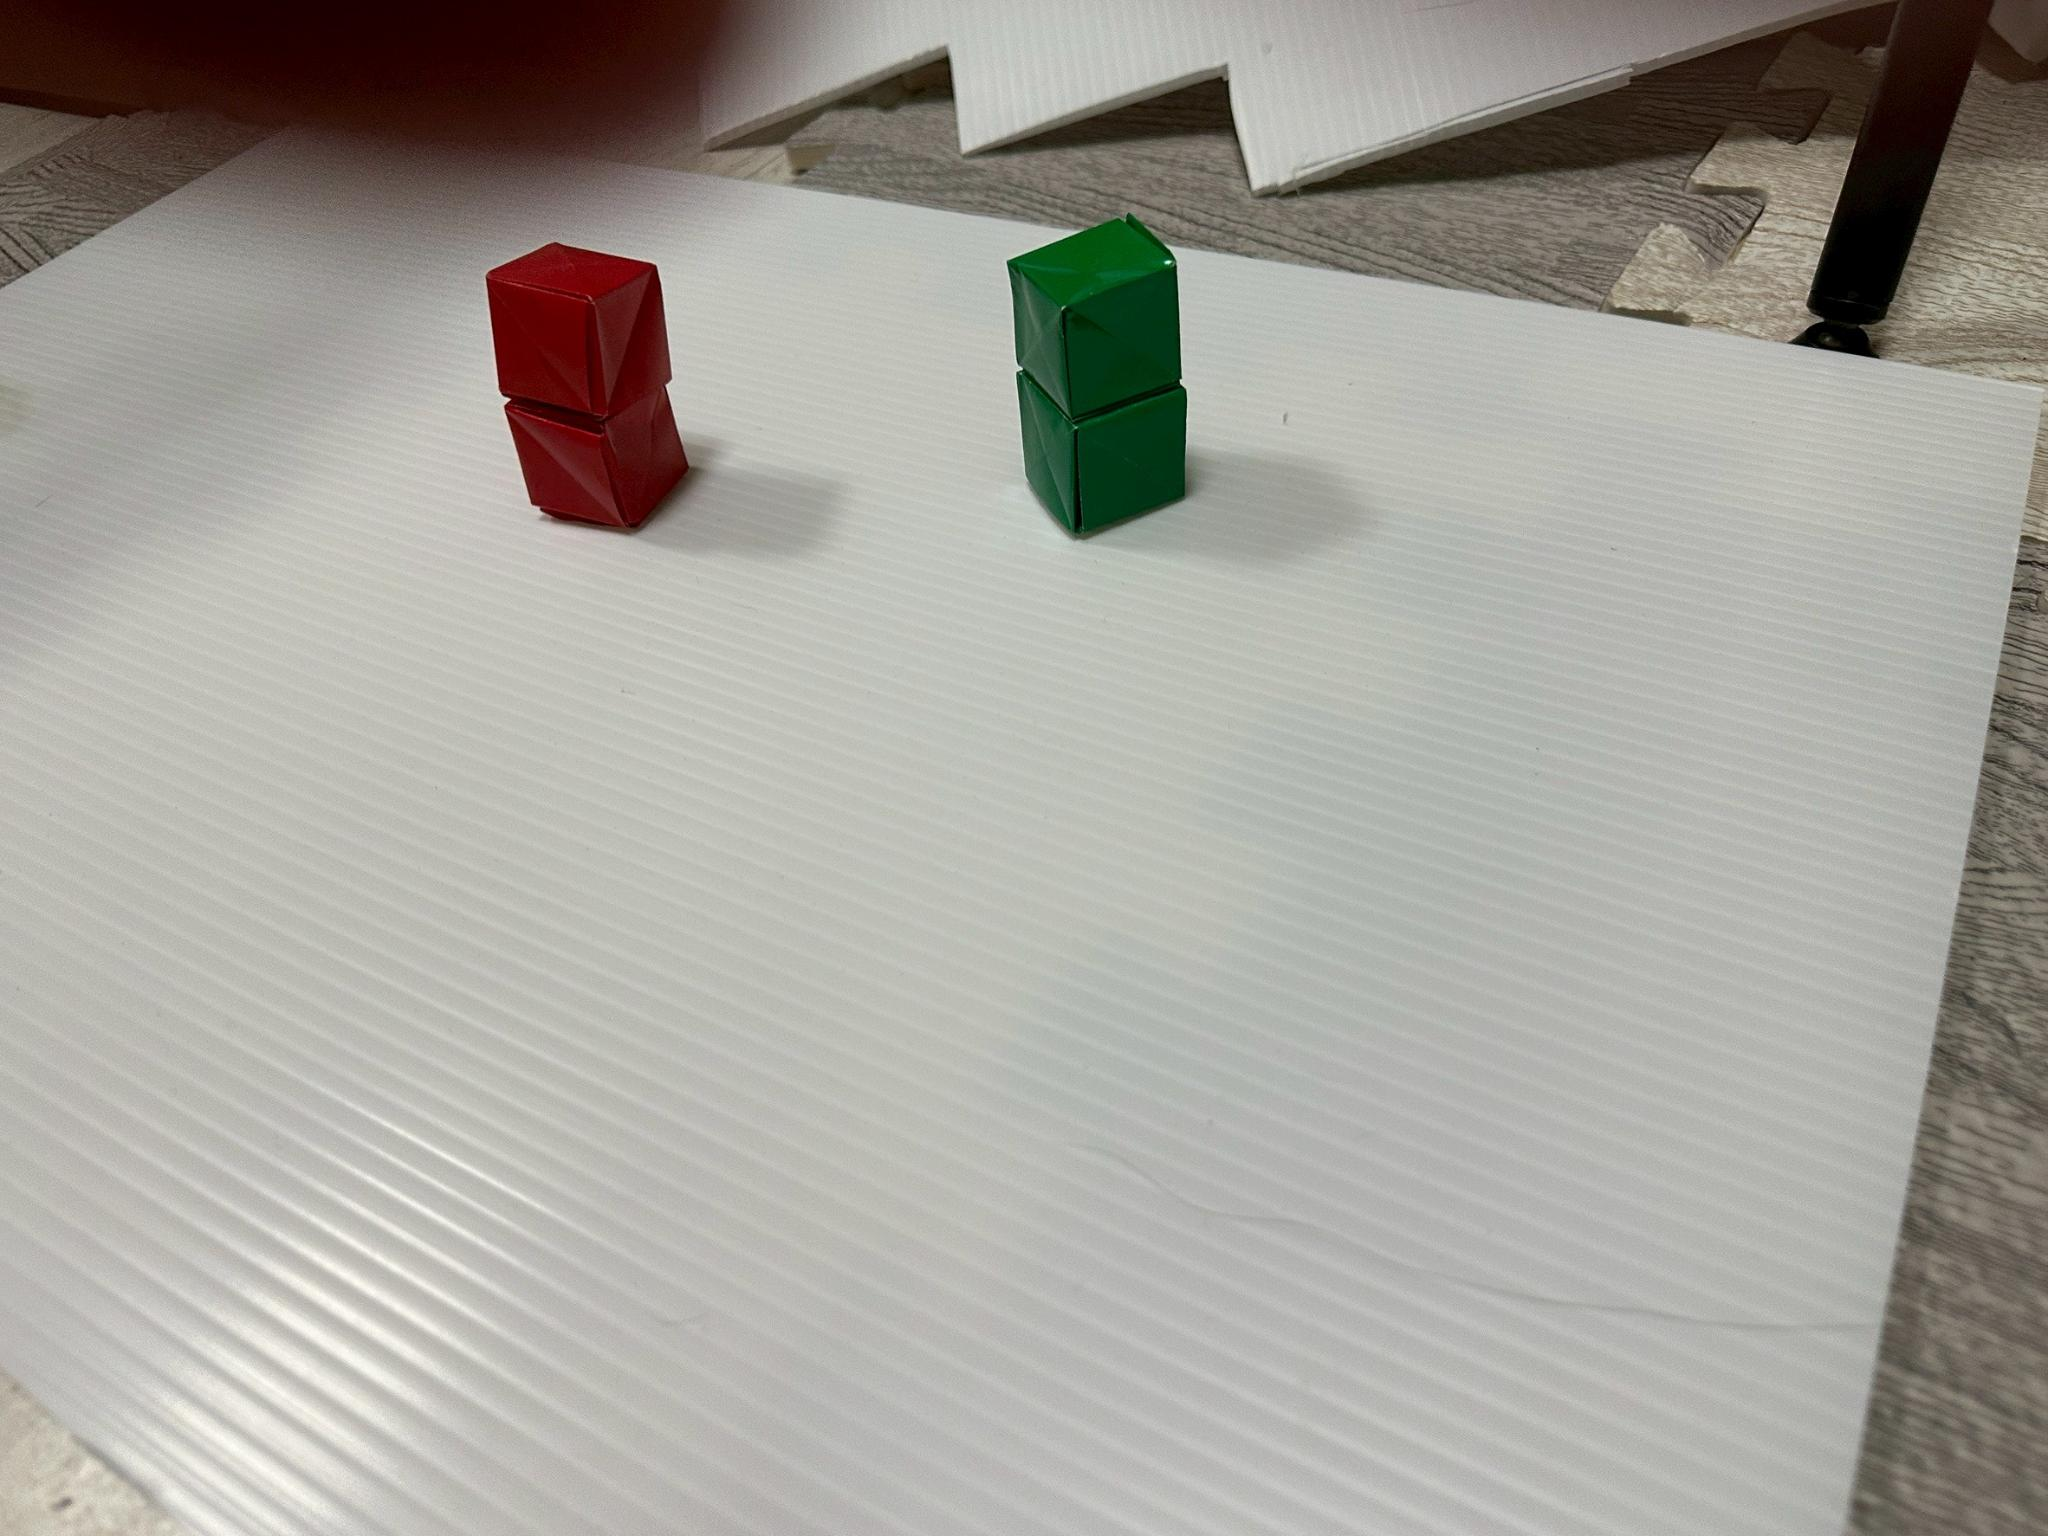base: (1008, 215, 1180, 416), (489, 244, 671, 418), (1018, 371, 1185, 534), (506, 384, 687, 528)
